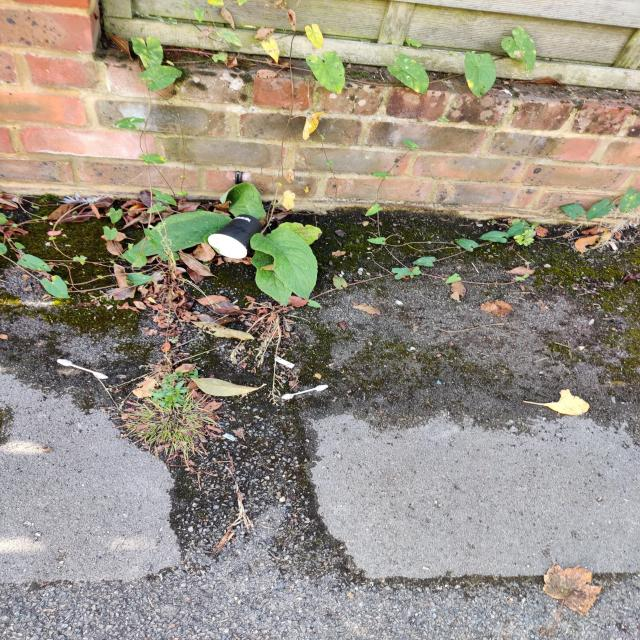litter: (205, 212, 267, 262)
